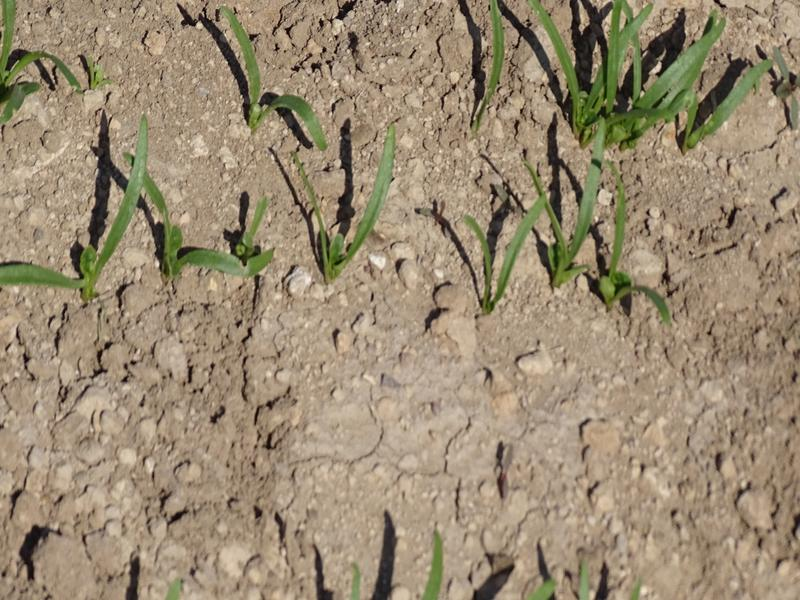Espinaca: (484, 1, 772, 144), (450, 155, 675, 317), (129, 127, 273, 274), (221, 8, 328, 145), (307, 123, 395, 276), (1, 8, 98, 106), (1, 213, 124, 290)
